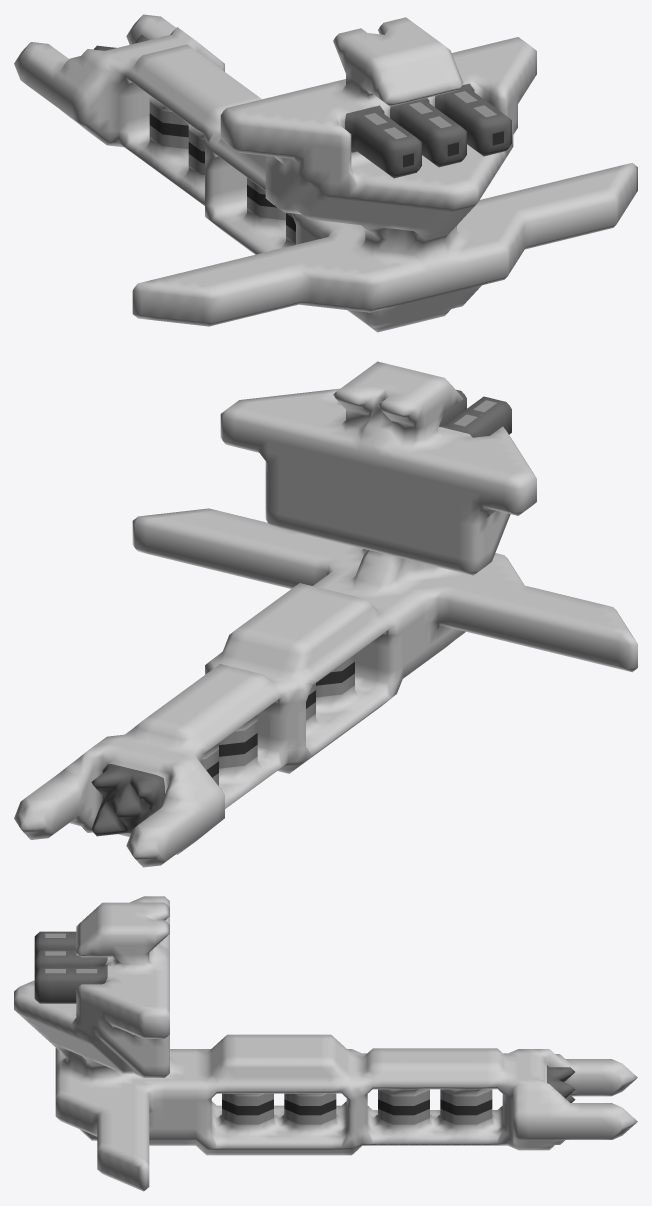
Rendered from fulkreykk-3-orsh-class.obj.
3 renders of one model, top to bottom at view 1: azimuth 30°, elevation 25°; view 2: azimuth 150°, elevation 25°; view 3: azimuth 270°, elevation 25°, orthographic. The views are drawn at different scales.
Size of the model in its own units: 45 by 24 by 60.
Materials: 1 (1 with a texture image).
